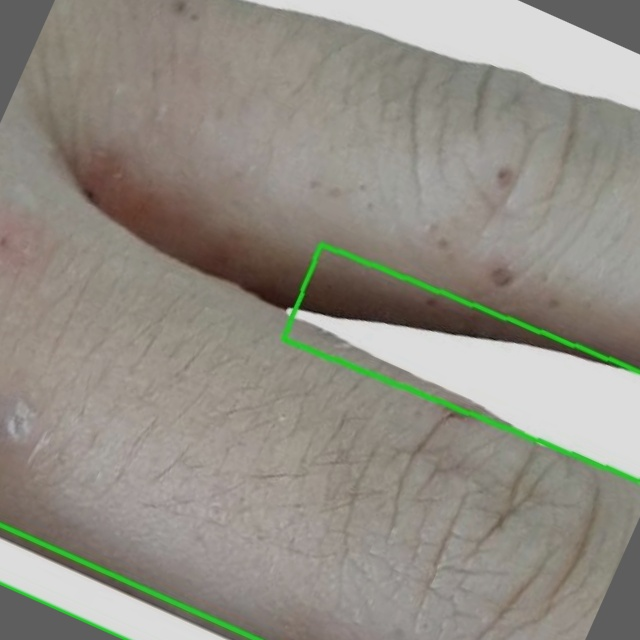Scabies: (284, 245, 639, 482)
